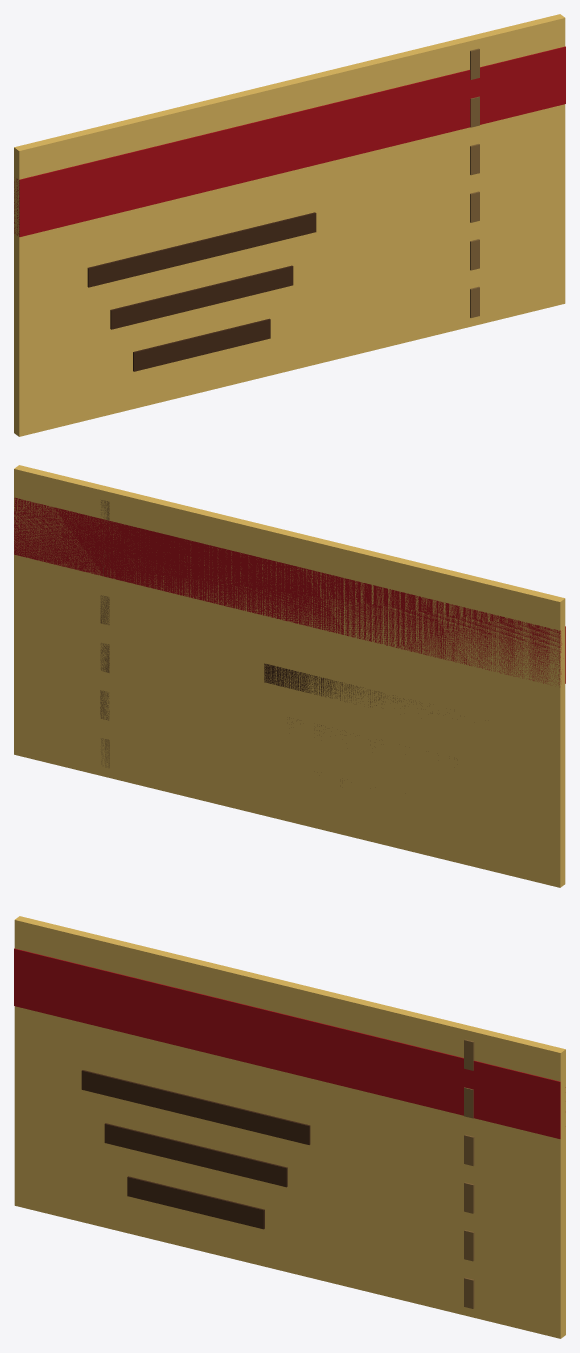
Rendered from match-ticket.glb.
The picture shows the model from 3 angles, top to bottom: view 1: azimuth 30°, elevation 25°; view 2: azimuth 150°, elevation 25°; view 3: azimuth 330°, elevation 25°; orthographic projection.
Visible parts, largest first — view 1: match_ticket; view 2: match_ticket; view 3: match_ticket.
Boxes of the visible parts, left/top/right/bottom form: match_ticket: left=14, top=14, right=565, bottom=436; match_ticket: left=14, top=465, right=565, bottom=887; match_ticket: left=14, top=916, right=565, bottom=1338.
Size of the model in its own units: 0.12 by 0.06 by 0.0024.
